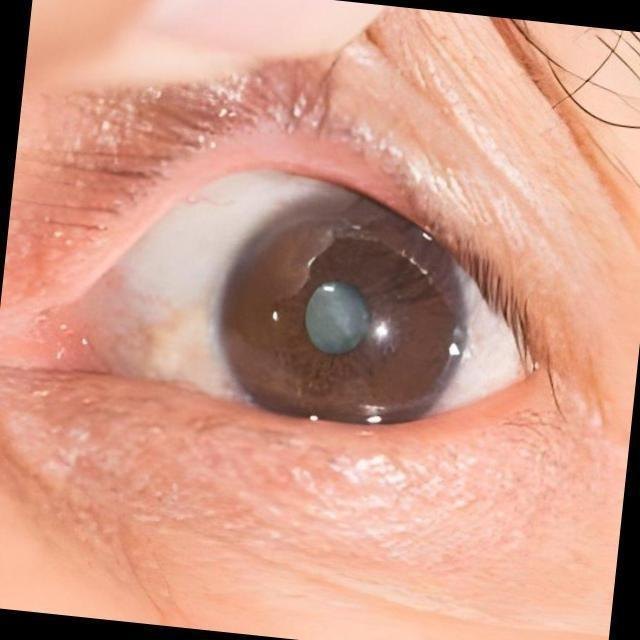Cataract: (203, 185, 478, 448)
